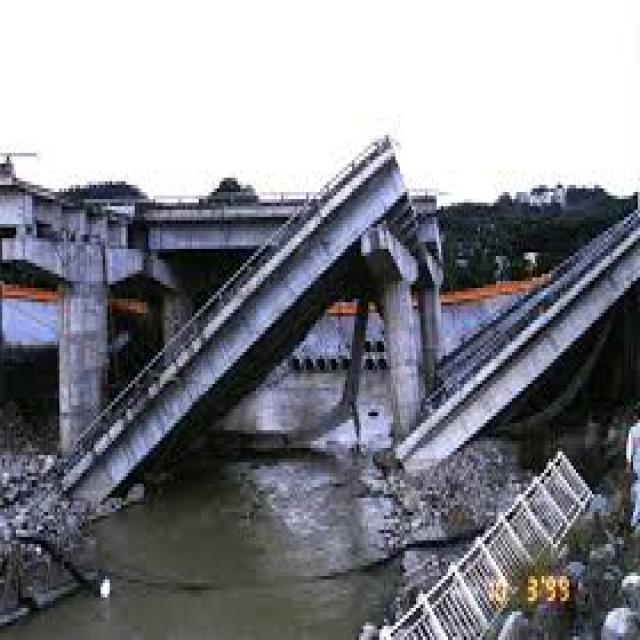bridge collapse: (0, 74, 640, 508)
